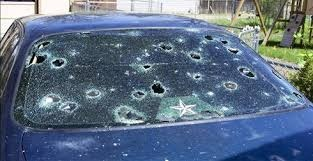Broken-glass: (20, 27, 293, 123)
